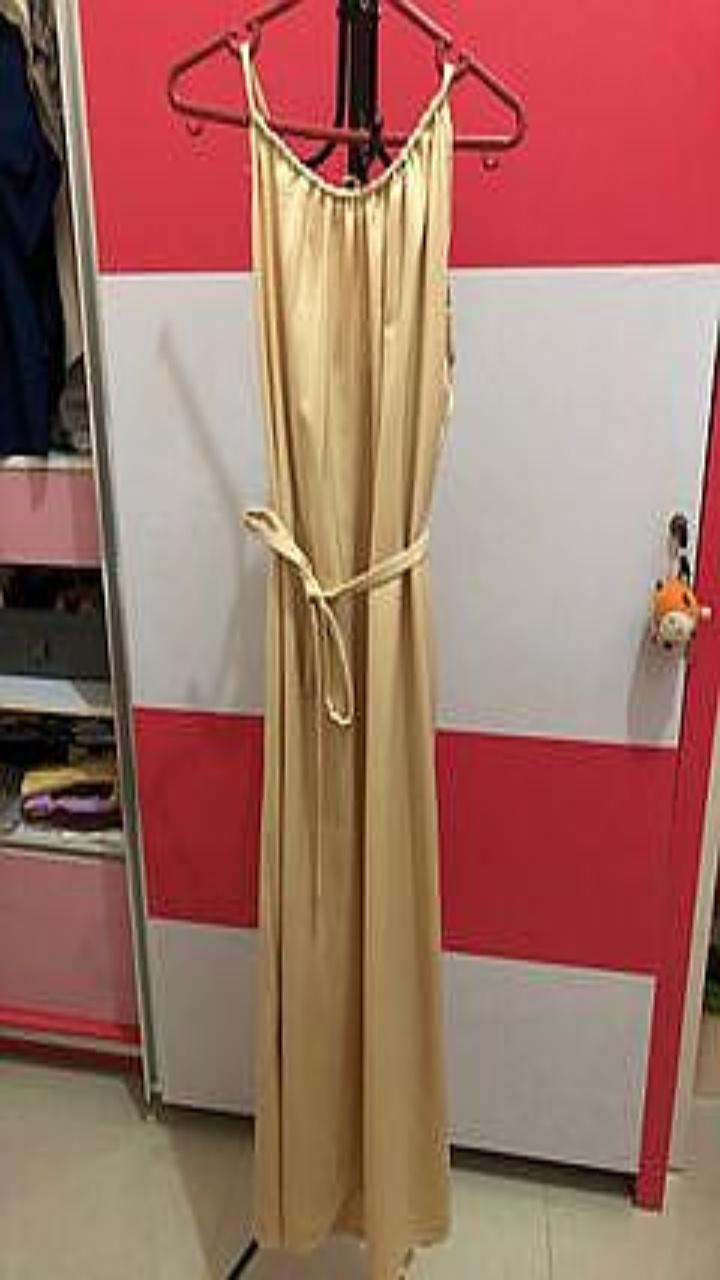Dresses: (243, 47, 451, 1279)
